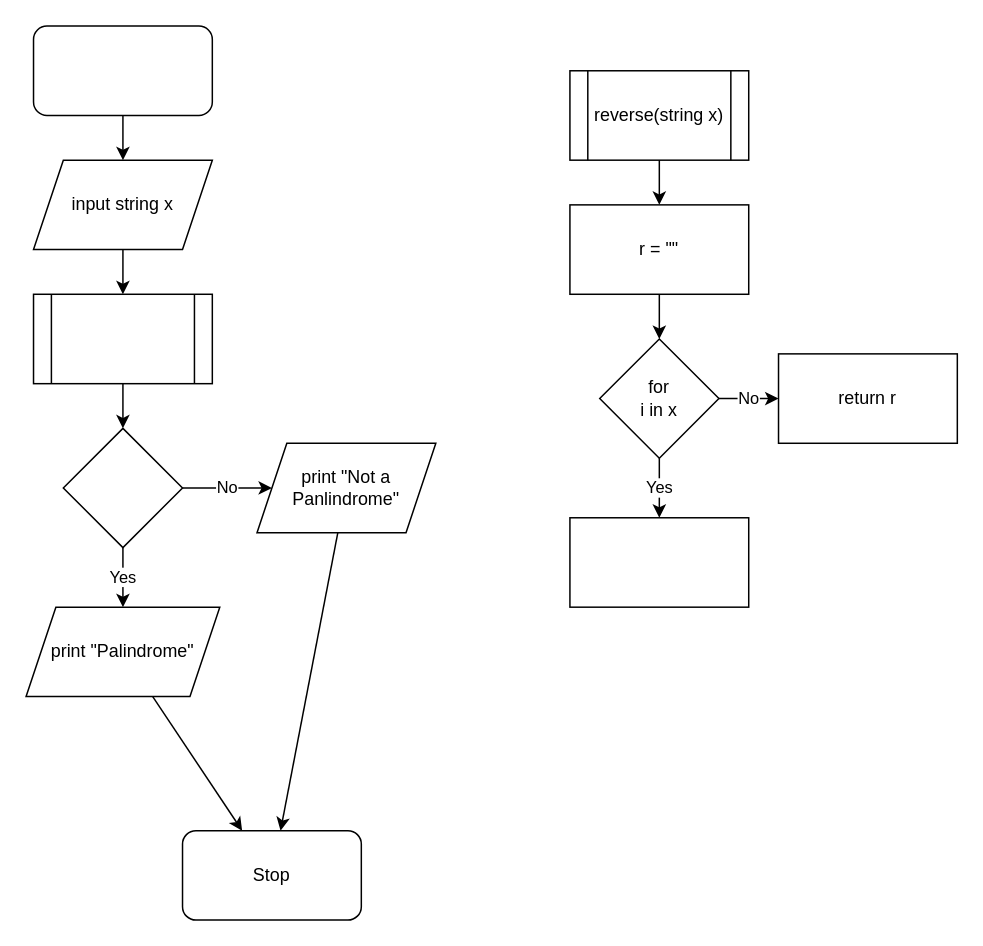
Some shapes in this 983 by 946 pixel diagram are drawn without their labels. The box of each missing label's shape, as (x1, y1, x2, y2) in pixels:
if x == r: (62, 427, 183, 548)
r = i + r: (568, 516, 749, 607)
r = reverse(x): (32, 293, 212, 384)
Start: (32, 25, 212, 115)
